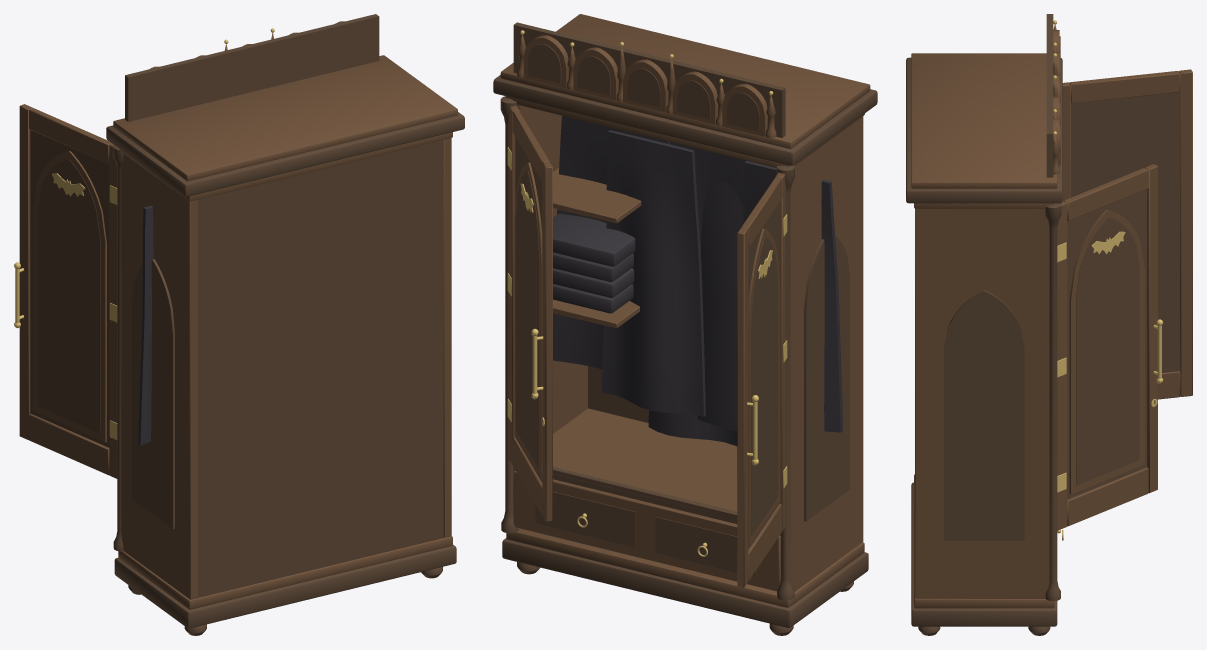
Rendered from gu_armadio_aperto.fbx.
3 renders of one model, left to right at view 1: azimuth 30°, elevation 25°; view 2: azimuth 150°, elevation 25°; view 3: azimuth 270°, elevation 25°, orthographic. The views are drawn at different scales.
Visible parts, largest first — view 1: gu_armadio_aperto_legno, gu_armadio_aperto_noce, gu_armadio_aperto_anta_sx, gu_armadio_aperto_panno; view 2: gu_armadio_aperto_noce, gu_armadio_aperto_panno, gu_armadio_aperto_legno, gu_armadio_aperto_anta_sx, gu_armadio_aperto_anta_dx; view 3: gu_armadio_aperto_noce, gu_armadio_aperto_anta_dx, gu_armadio_aperto_legno, gu_armadio_aperto_anta_sx.
Boxes of the visible parts, x1=… form: gu_armadio_aperto_legno: x1=106, y1=14, x2=464, y2=635; gu_armadio_aperto_noce: x1=113, y1=21, x2=457, y2=609; gu_armadio_aperto_anta_sx: x1=14, y1=104, x2=117, y2=478; gu_armadio_aperto_panno: x1=138, y1=205, x2=153, y2=445; gu_armadio_aperto_noce: x1=500, y1=14, x2=870, y2=607; gu_armadio_aperto_panno: x1=553, y1=115, x2=842, y2=446; gu_armadio_aperto_legno: x1=493, y1=22, x2=877, y2=635; gu_armadio_aperto_anta_sx: x1=737, y1=172, x2=787, y2=587; gu_armadio_aperto_anta_dx: x1=507, y1=105, x2=552, y2=521; gu_armadio_aperto_noce: x1=911, y1=25, x2=1059, y2=608; gu_armadio_aperto_anta_dx: x1=1057, y1=164, x2=1163, y2=530; gu_armadio_aperto_legno: x1=906, y1=14, x2=1062, y2=635; gu_armadio_aperto_anta_sx: x1=1062, y1=69, x2=1192, y2=399.
Bounding box in the file's own units: 1.66 × 2.67 × 1.36.
